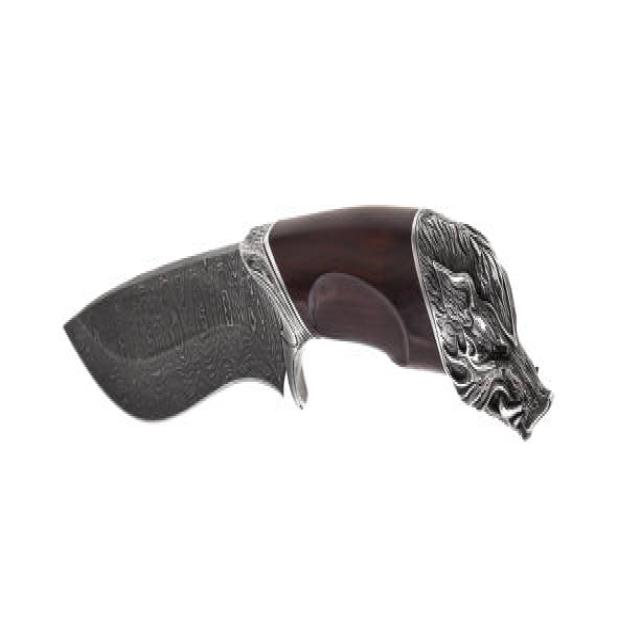knife: (62, 202, 557, 441)
